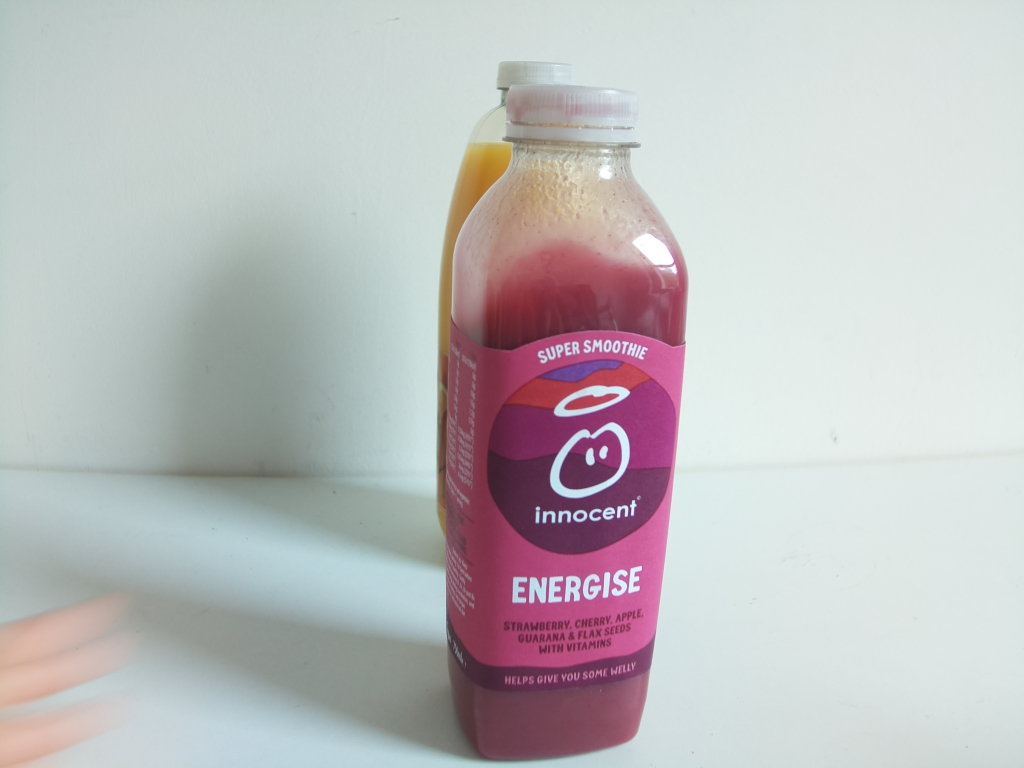juice: (449, 80, 675, 763), (456, 59, 587, 224)
